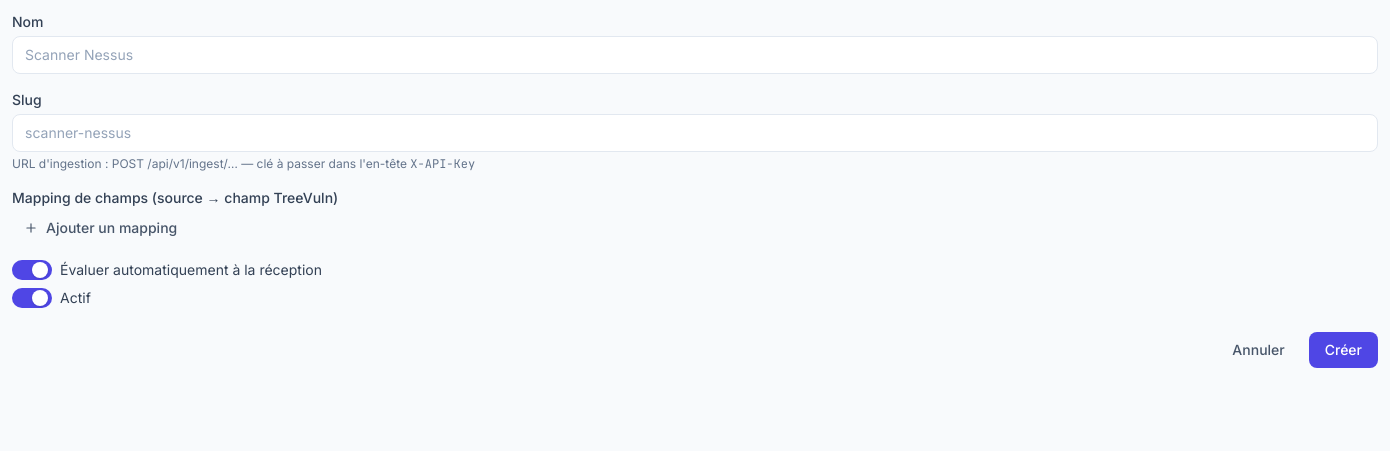
IngestForm › exige nom et slug
Click the button "Créer".
click(1343, 350)  # box [1309, 332, 1378, 368]
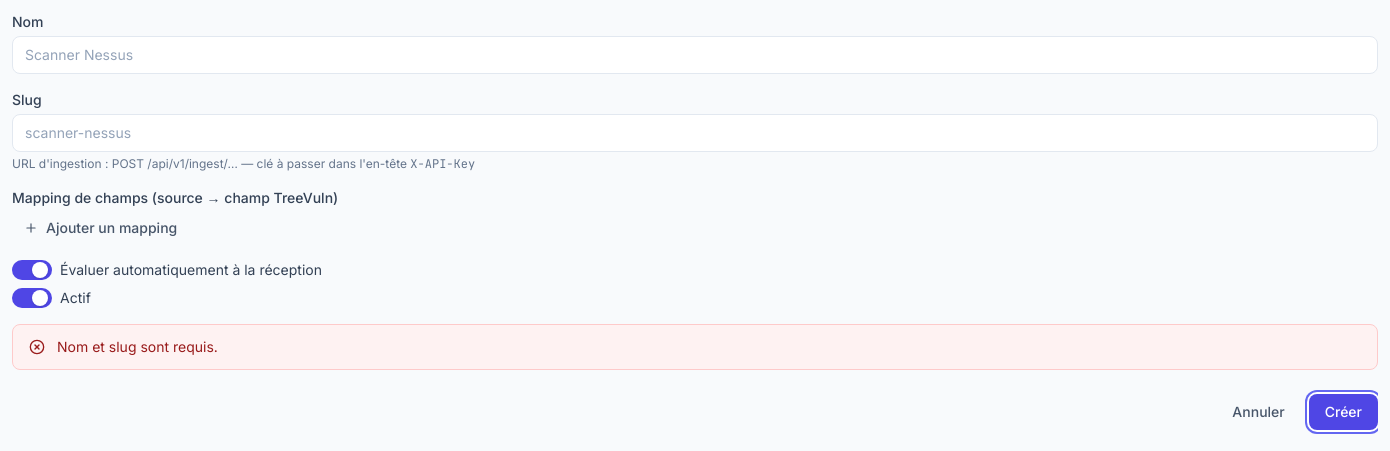
Now the message "Nom et slug sont requis." is shown, box [12, 324, 1378, 370]
